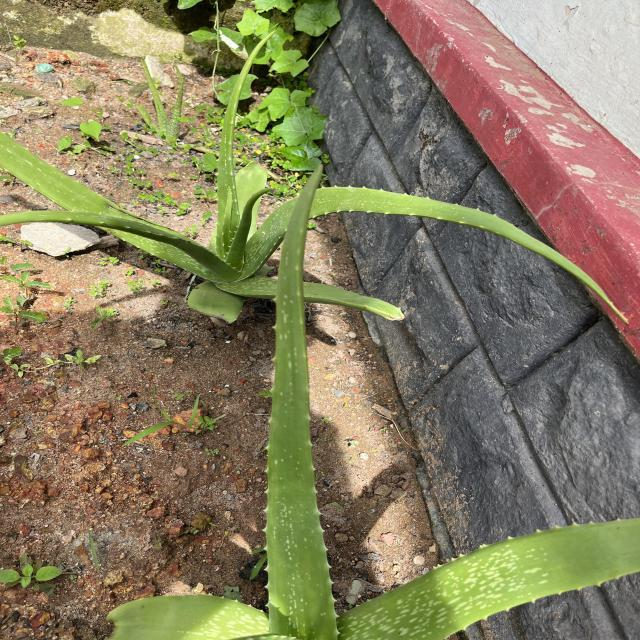Aloe vera: (258, 165, 340, 640)
